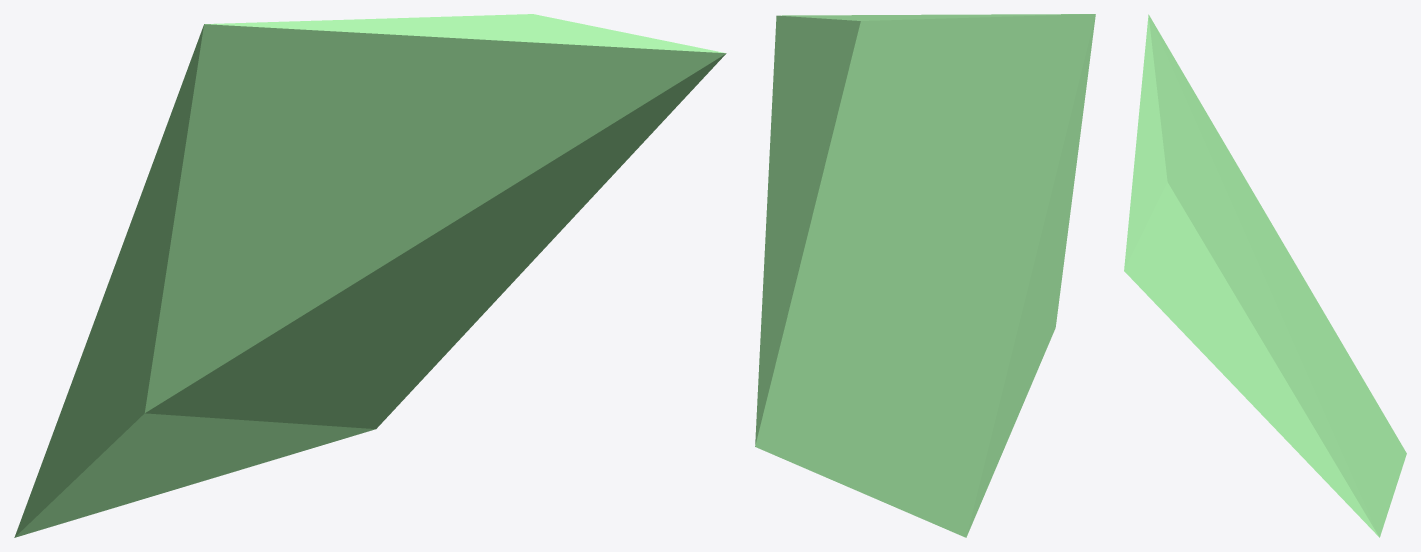
Rendered from linkhou_LR4_R560_link6_respondable_coll_33.dae.
The picture shows the model from 3 angles, left to right: view 1: azimuth 30°, elevation 25°; view 2: azimuth 150°, elevation 25°; view 3: azimuth 270°, elevation 25°; orthographic projection. The views are drawn at different scales.
Parts seen in each view (by area): view 1: Node_0000029808435390; view 2: Node_0000029808435390; view 3: Node_0000029808435390.
Part boxes in pixels (bbox=[...]): Node_0000029808435390: bbox=[14, 14, 726, 537]; Node_0000029808435390: bbox=[755, 14, 1095, 537]; Node_0000029808435390: bbox=[1124, 14, 1406, 537].
Size of the model in its own units: 0.0234 by 0.0291 by 0.017.
